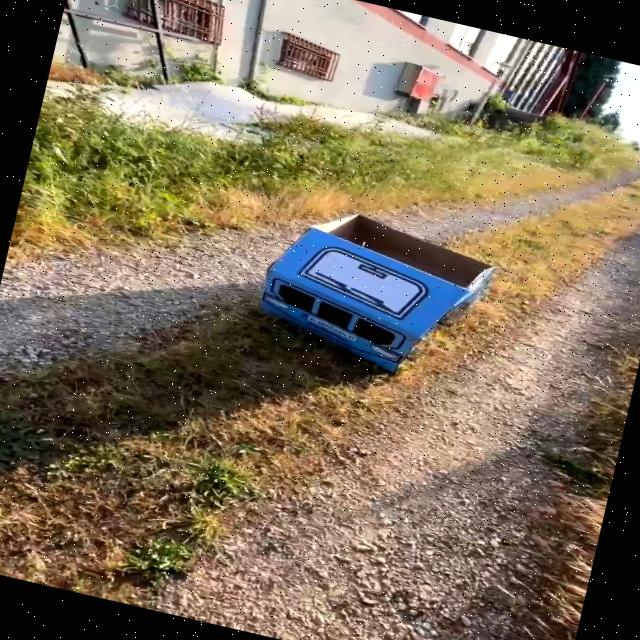blue_car: (211, 171, 531, 415)
